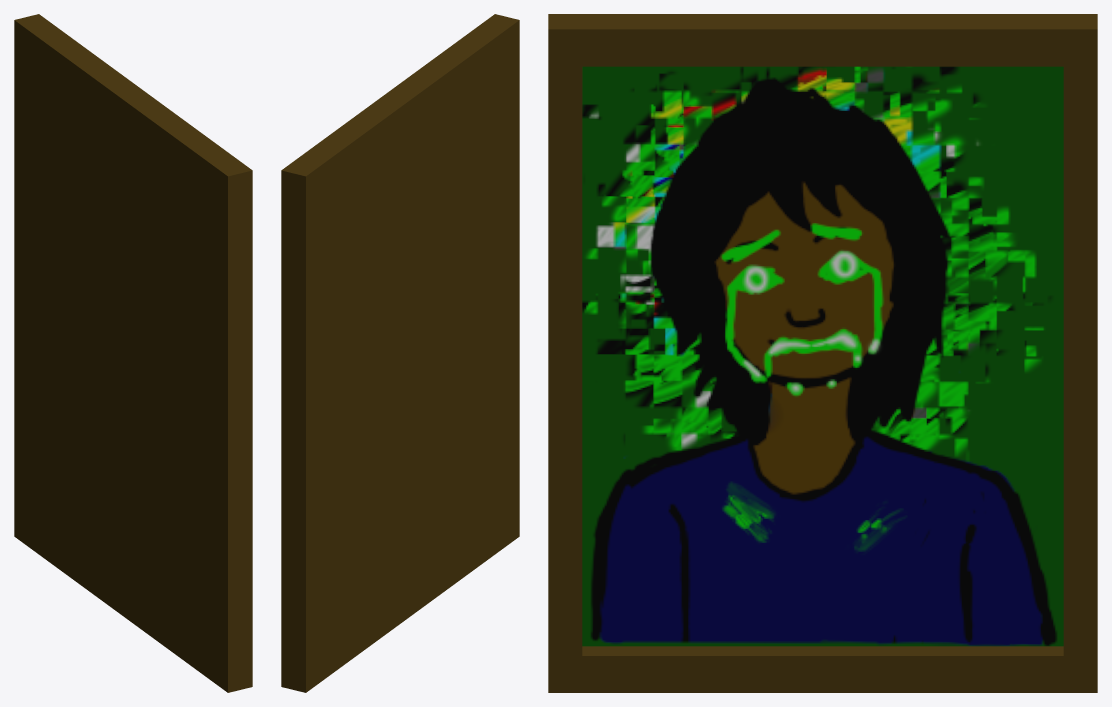
File: FBX_Photo_DyingSon.fbx
3 renders of one model, left to right at view 1: azimuth 30°, elevation 25°; view 2: azimuth 150°, elevation 25°; view 3: azimuth 270°, elevation 25°, orthographic. The views are drawn at different scales.
Parts seen in each view (by area): view 1: FBX_PhotoFrame; view 2: FBX_PhotoFrame; view 3: FBX_PhotoFrame.
Part boxes in pixels (left/top/right/bottom): FBX_PhotoFrame: left=14, top=14, right=252, bottom=692; FBX_PhotoFrame: left=281, top=14, right=519, bottom=692; FBX_PhotoFrame: left=548, top=14, right=1097, bottom=692.
Bounding box in the file's own units: 1 × 20 × 15.
